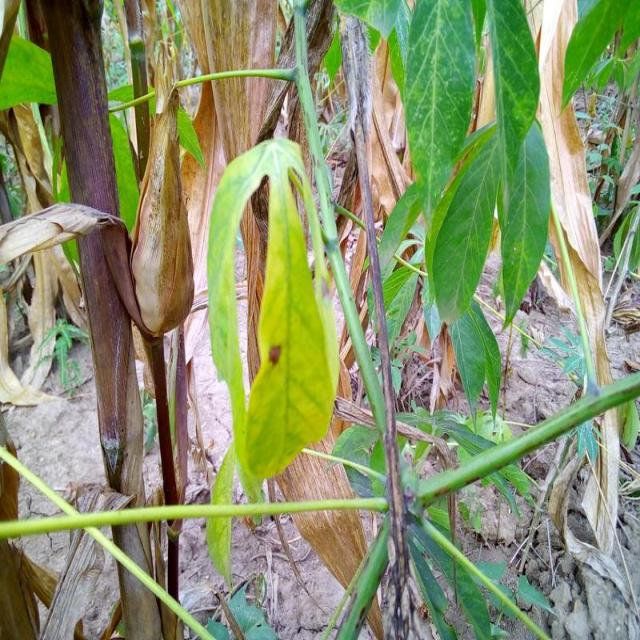cassava leaf: (206, 135, 340, 508)
